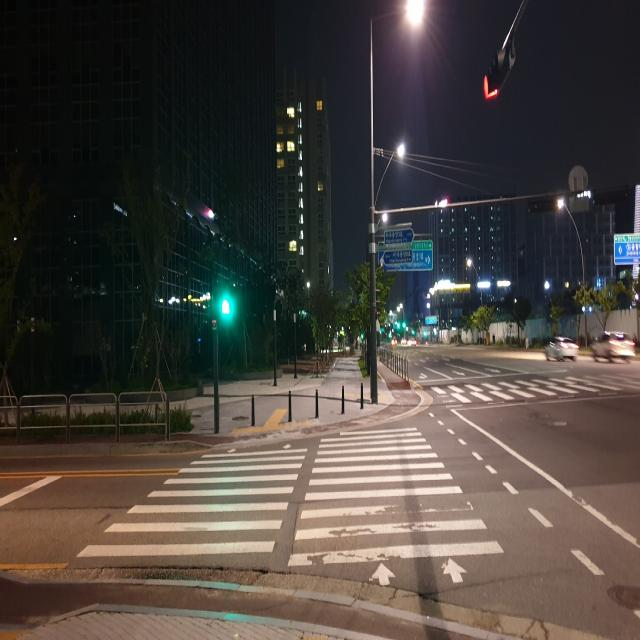초록불: (216, 281, 236, 331)
횡단보도: (75, 424, 507, 590)
